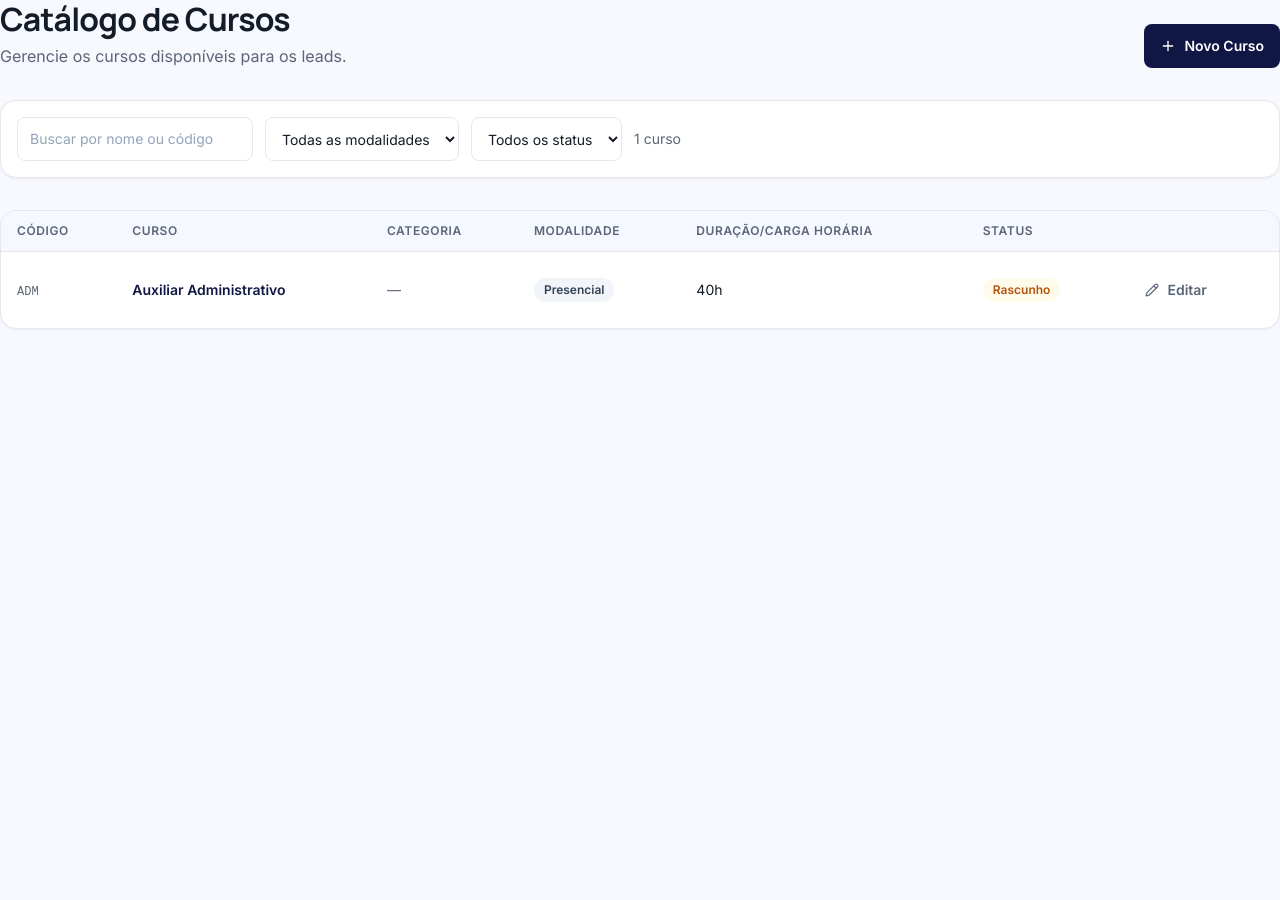
it: CourseCatalog › mostra mensagem genérica para erros desconhecidos
Click the button "Novo Curso" at (1212,46), box [1144,24,1279,68]
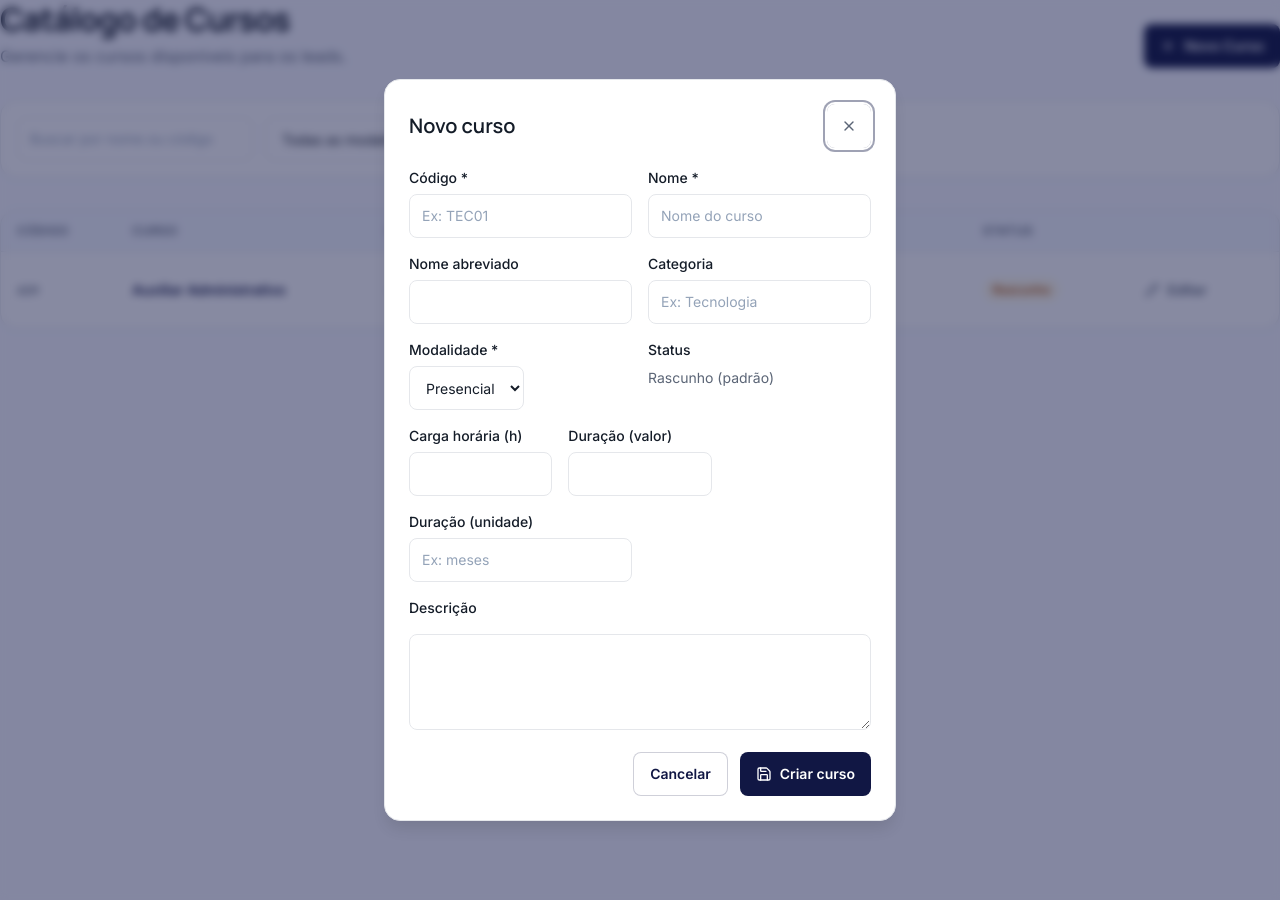
Type "ADM-TESTE" into the field labelled "Código *" at (520,216), box [409,194,632,238]
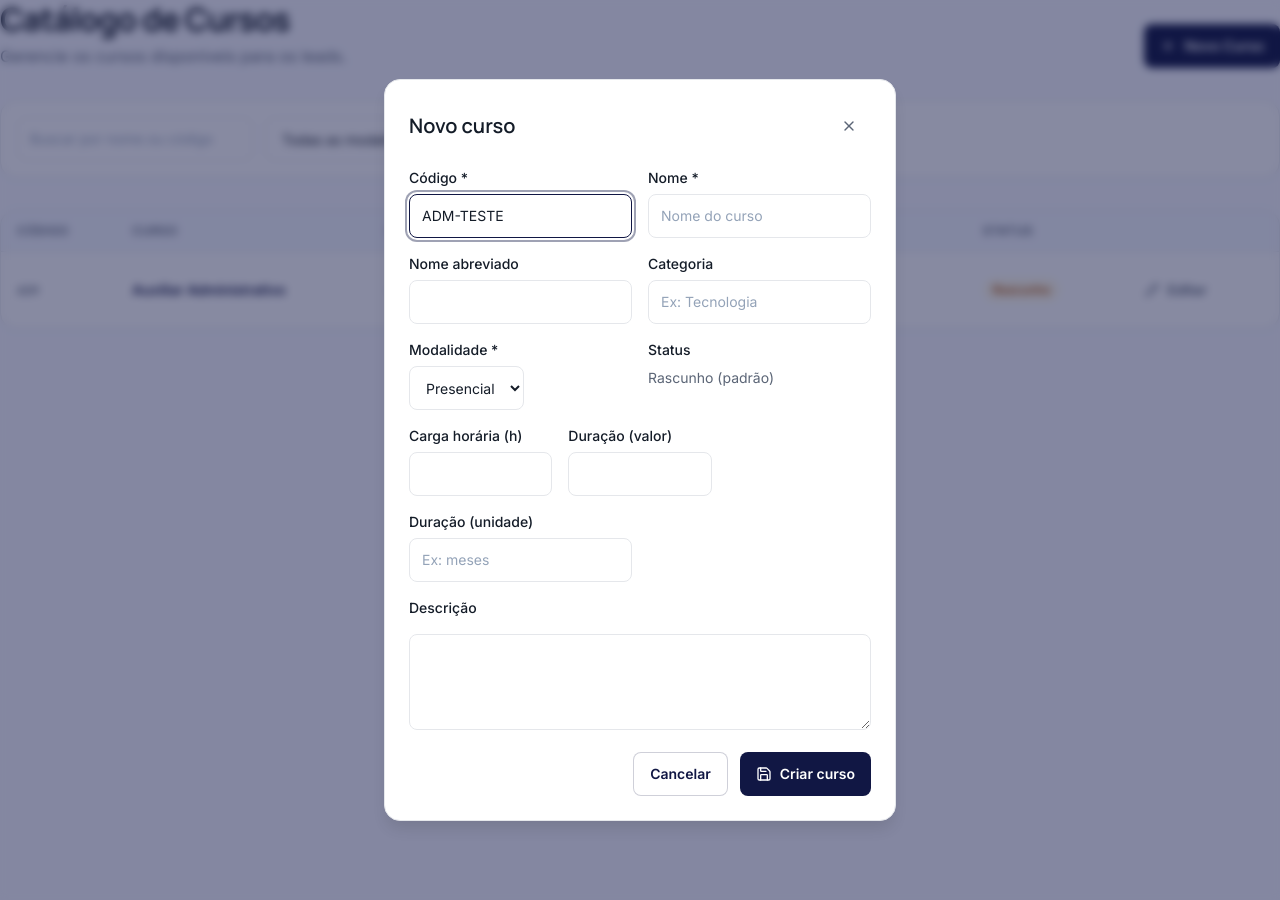
Type "Curso Teste" into the field labelled "Nome *" at (760,216), box [648,194,871,238]
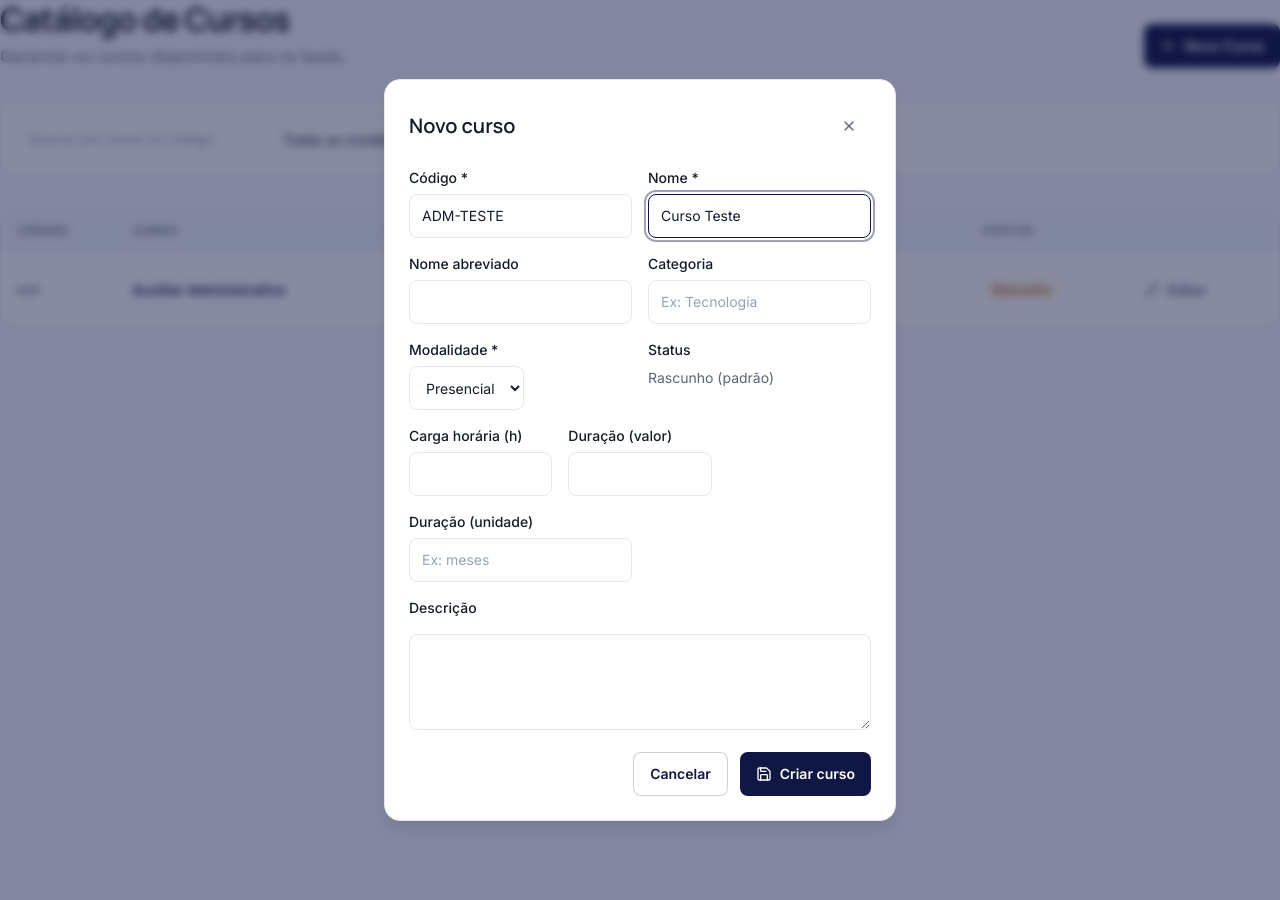
Click the button "Criar curso" at (805,774), box [740,752,871,796]
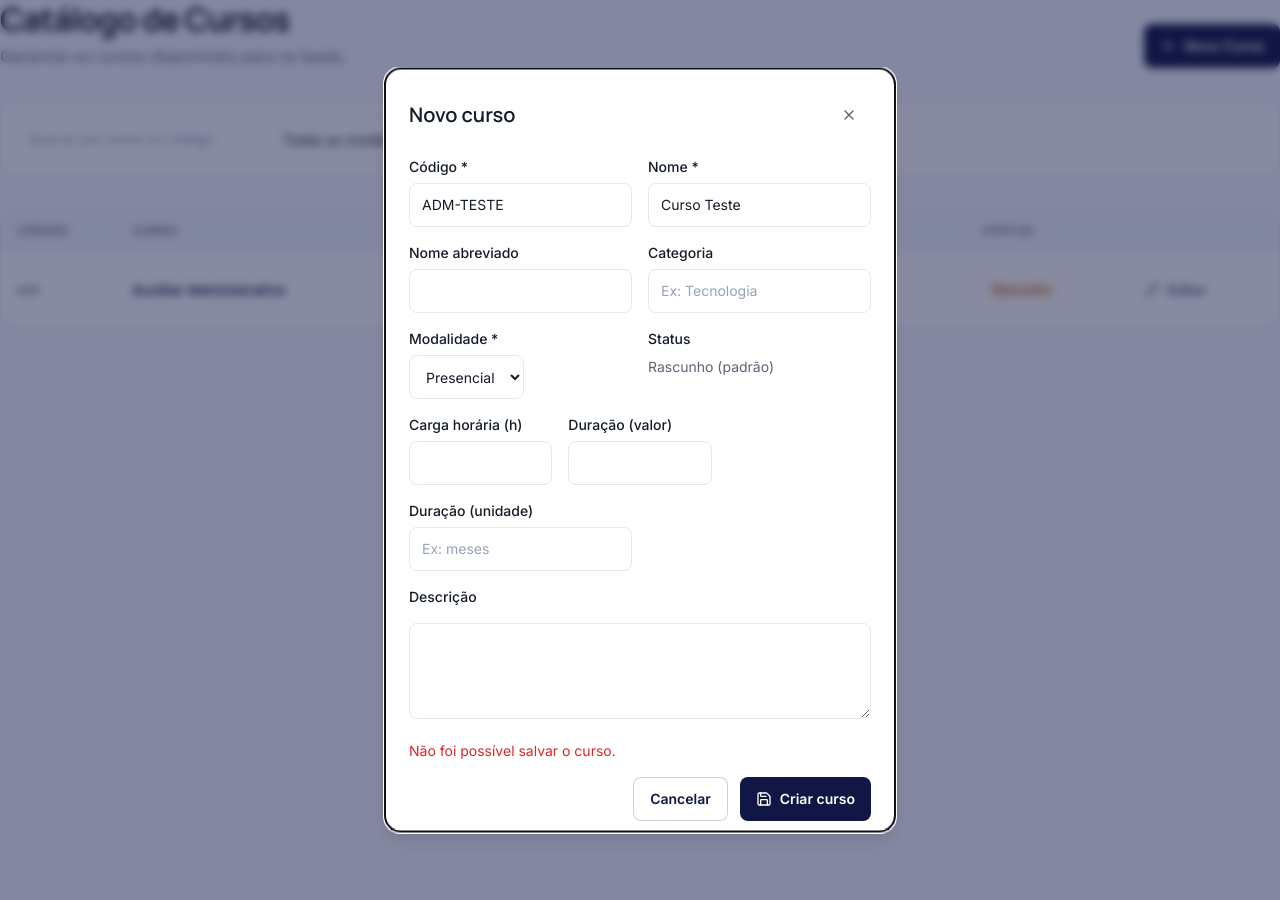
Result: the text "Não foi possível salvar o curso." is shown at [409,742,616,758]
